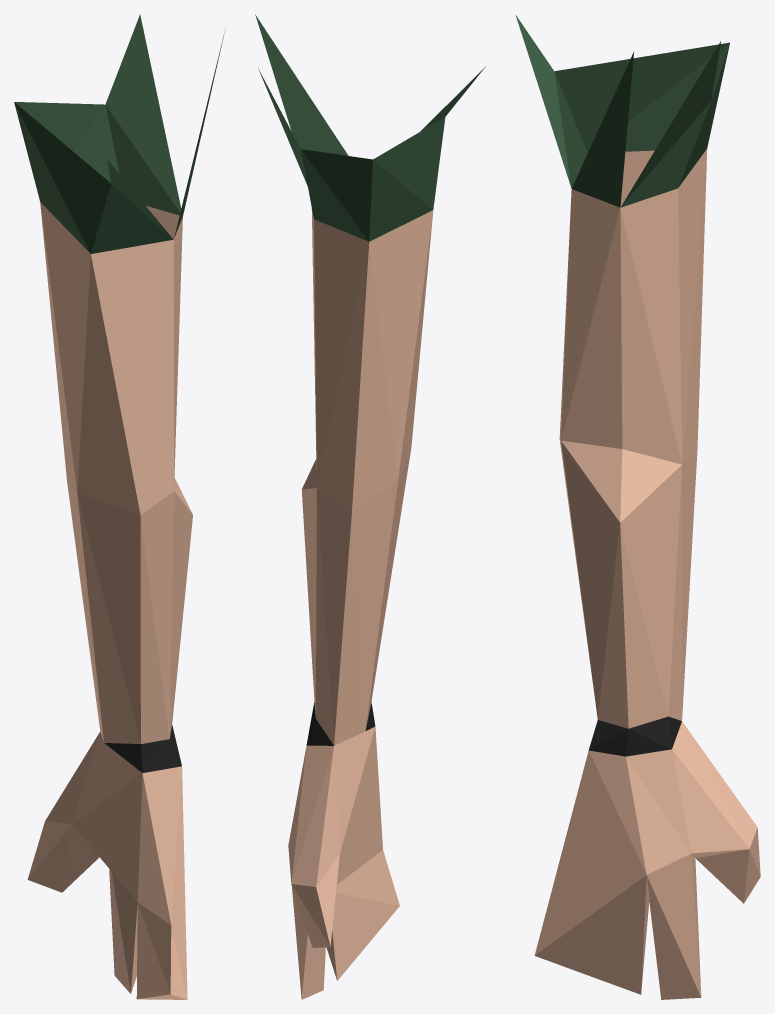
The model's file is ArmR_Lo.obj.
3 renders of one model, left to right at view 1: azimuth 30°, elevation 25°; view 2: azimuth 150°, elevation 25°; view 3: azimuth 270°, elevation 25°, orthographic. The views are drawn at different scales.
Bounding box in the file's own units: 0.1724 × 0.8914 × 0.2002.
1 material, 1 textured.
